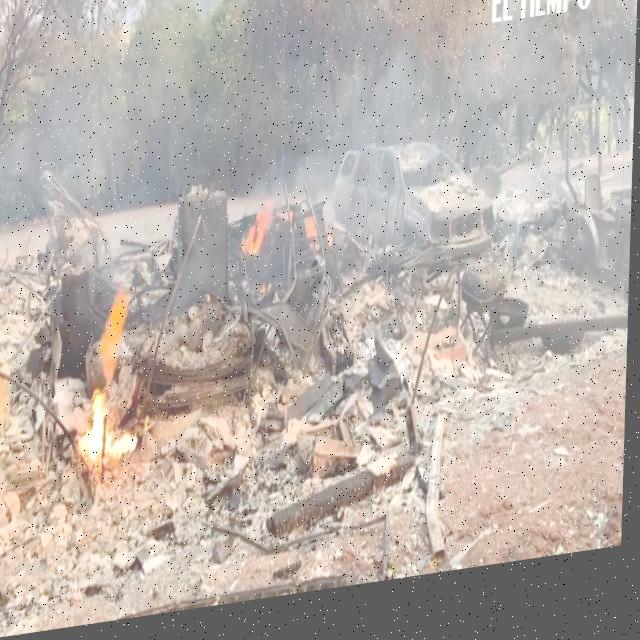Fire: (93, 293, 142, 392), (80, 394, 143, 464), (242, 206, 274, 264)
